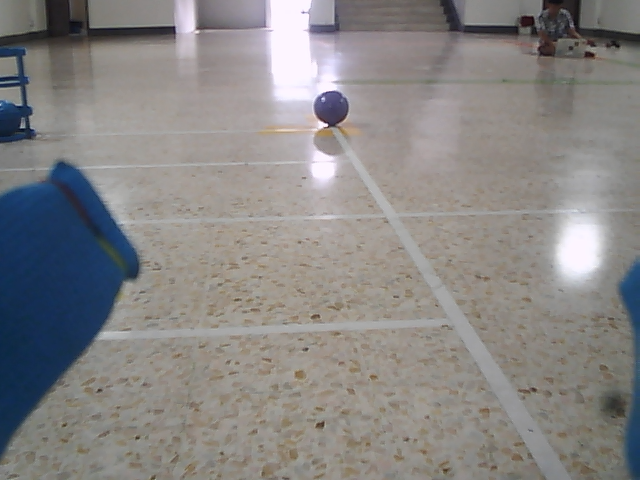Blue ball: (1, 101, 25, 139)
Cyro: (1, 45, 38, 144)
Purple ball: (312, 90, 350, 126)
